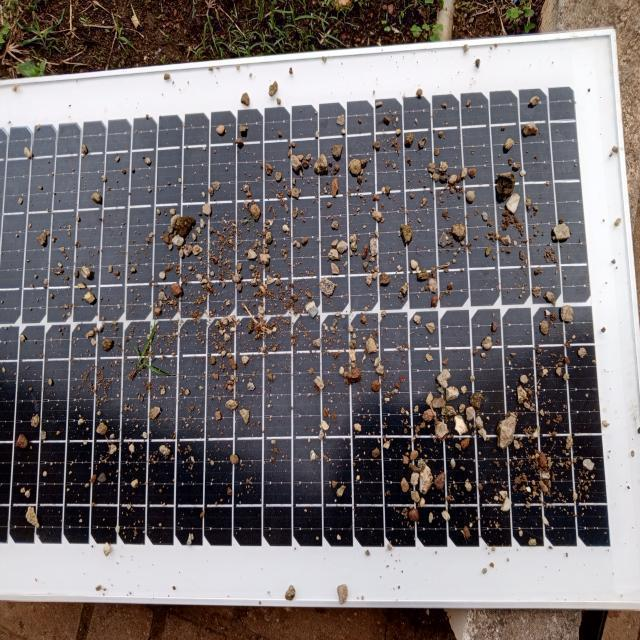Anomaly Solar Panel: (0, 92, 611, 587)
Surface Contaminant: (0, 92, 611, 587)
